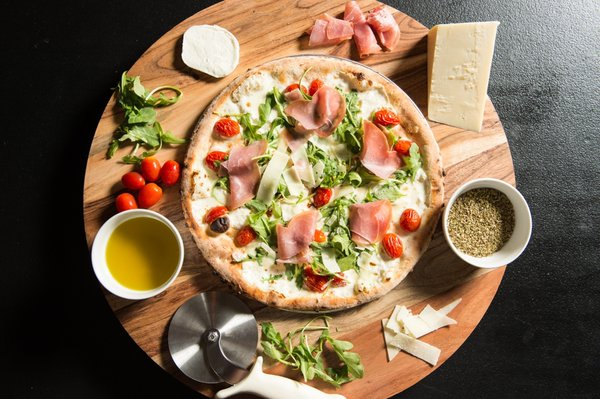sushi: (90, 208, 185, 300), (442, 177, 533, 271)
